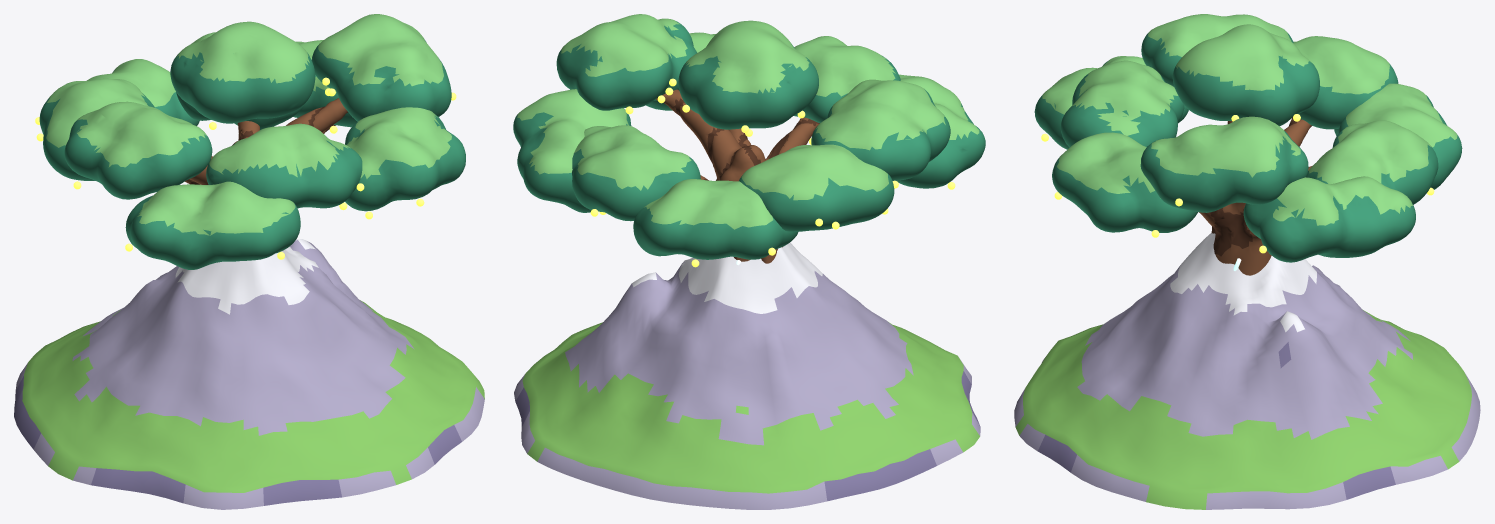
The model's file is worldtree_kit.glb.
3 renders of one model, left to right at view 1: azimuth 30°, elevation 25°; view 2: azimuth 150°, elevation 25°; view 3: azimuth 270°, elevation 25°, orthographic.
Visible parts, largest first — view 1: WT_Mountain_B, WT_Yggdrasil_canopy5, WT_Yggdrasil_canopy9, WT_Yggdrasil_canopy8, WT_Yggdrasil_canopy4, WT_Yggdrasil_canopy6, WT_Yggdrasil_canopy7, WT_Yggdrasil_canopy3, WT_Yggdrasil_canopy2, WT_Yggdrasil, WT_Yggdrasil_canopy0, WT_Yggdrasil_canopy1; view 2: WT_Mountain_B, WT_Yggdrasil_canopy9, WT_Yggdrasil_canopy8, WT_Yggdrasil_canopy2, WT_Yggdrasil_canopy3, WT_Yggdrasil_canopy4, WT_Yggdrasil_canopy1, WT_Yggdrasil_canopy0, WT_Yggdrasil_canopy6, WT_Yggdrasil, WT_Yggdrasil_canopy5; view 3: WT_Mountain_B, WT_Yggdrasil_canopy8, WT_Yggdrasil_canopy0, WT_Yggdrasil_canopy9, WT_Yggdrasil_canopy7, WT_Yggdrasil_canopy6, WT_Yggdrasil_canopy1, WT_Yggdrasil_canopy3, WT_Yggdrasil_canopy2, WT_Yggdrasil_canopy4, WT_Yggdrasil, WT_Yggdrasil_canopy5.
Boxes of the visible parts, bbox=[...] form: WT_Mountain_B: bbox=[14, 239, 484, 509]; WT_Yggdrasil_canopy5: bbox=[125, 181, 300, 269]; WT_Yggdrasil_canopy9: bbox=[170, 21, 315, 129]; WT_Yggdrasil_canopy8: bbox=[311, 14, 456, 121]; WT_Yggdrasil_canopy4: bbox=[64, 101, 212, 199]; WT_Yggdrasil_canopy6: bbox=[206, 123, 364, 208]; WT_Yggdrasil_canopy7: bbox=[339, 107, 465, 219]; WT_Yggdrasil_canopy3: bbox=[35, 78, 154, 189]; WT_Yggdrasil_canopy2: bbox=[86, 59, 199, 125]; WT_Yggdrasil: bbox=[185, 98, 347, 184]; WT_Yggdrasil_canopy0: bbox=[293, 40, 357, 133]; WT_Yggdrasil_canopy1: bbox=[176, 32, 316, 129]; WT_Mountain_B: bbox=[514, 242, 980, 509]; WT_Yggdrasil_canopy9: bbox=[678, 20, 818, 136]; WT_Yggdrasil_canopy8: bbox=[556, 14, 696, 114]; WT_Yggdrasil_canopy2: bbox=[633, 179, 798, 267]; WT_Yggdrasil_canopy3: bbox=[739, 144, 894, 231]; WT_Yggdrasil_canopy4: bbox=[809, 79, 950, 188]; WT_Yggdrasil_canopy1: bbox=[572, 125, 700, 221]; WT_Yggdrasil_canopy0: bbox=[513, 89, 631, 214]; WT_Yggdrasil_canopy6: bbox=[794, 36, 900, 123]; WT_Yggdrasil: bbox=[656, 89, 819, 265]; WT_Yggdrasil_canopy5: bbox=[896, 74, 985, 189]; WT_Mountain_B: bbox=[1014, 233, 1480, 509]; WT_Yggdrasil_canopy8: bbox=[1140, 116, 1308, 212]; WT_Yggdrasil_canopy0: bbox=[1243, 176, 1415, 262]; WT_Yggdrasil_canopy9: bbox=[1172, 24, 1319, 126]; WT_Yggdrasil_canopy7: bbox=[1052, 132, 1197, 237]; WT_Yggdrasil_canopy6: bbox=[1060, 60, 1184, 147]; WT_Yggdrasil_canopy1: bbox=[1306, 120, 1438, 204]; WT_Yggdrasil_canopy3: bbox=[1293, 36, 1398, 129]; WT_Yggdrasil_canopy2: bbox=[1334, 83, 1462, 189]; WT_Yggdrasil_canopy4: bbox=[1141, 14, 1293, 86]; WT_Yggdrasil: bbox=[1199, 117, 1312, 275]; WT_Yggdrasil_canopy5: bbox=[1034, 56, 1188, 149].
Size of the model in its own units: 89.29 by 78.94 by 88.
